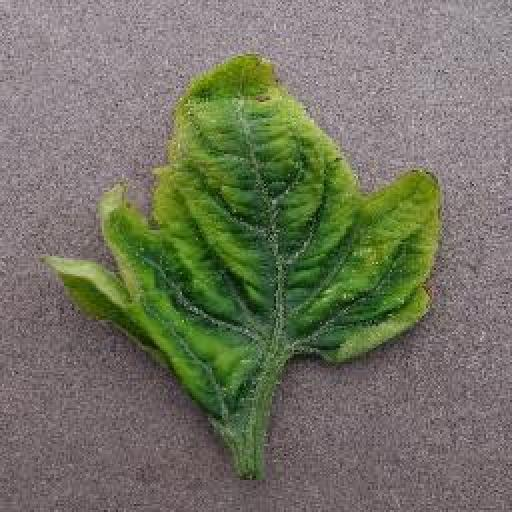Yellow Leaf Curl Virus: (44, 53, 443, 435)
